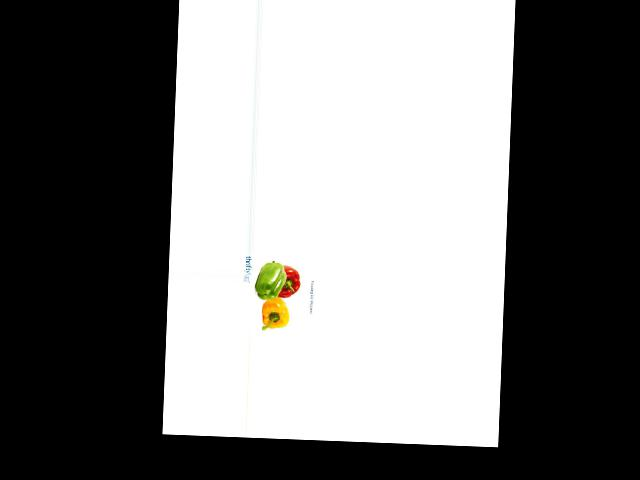bell_pepper: (251, 259, 286, 303)
